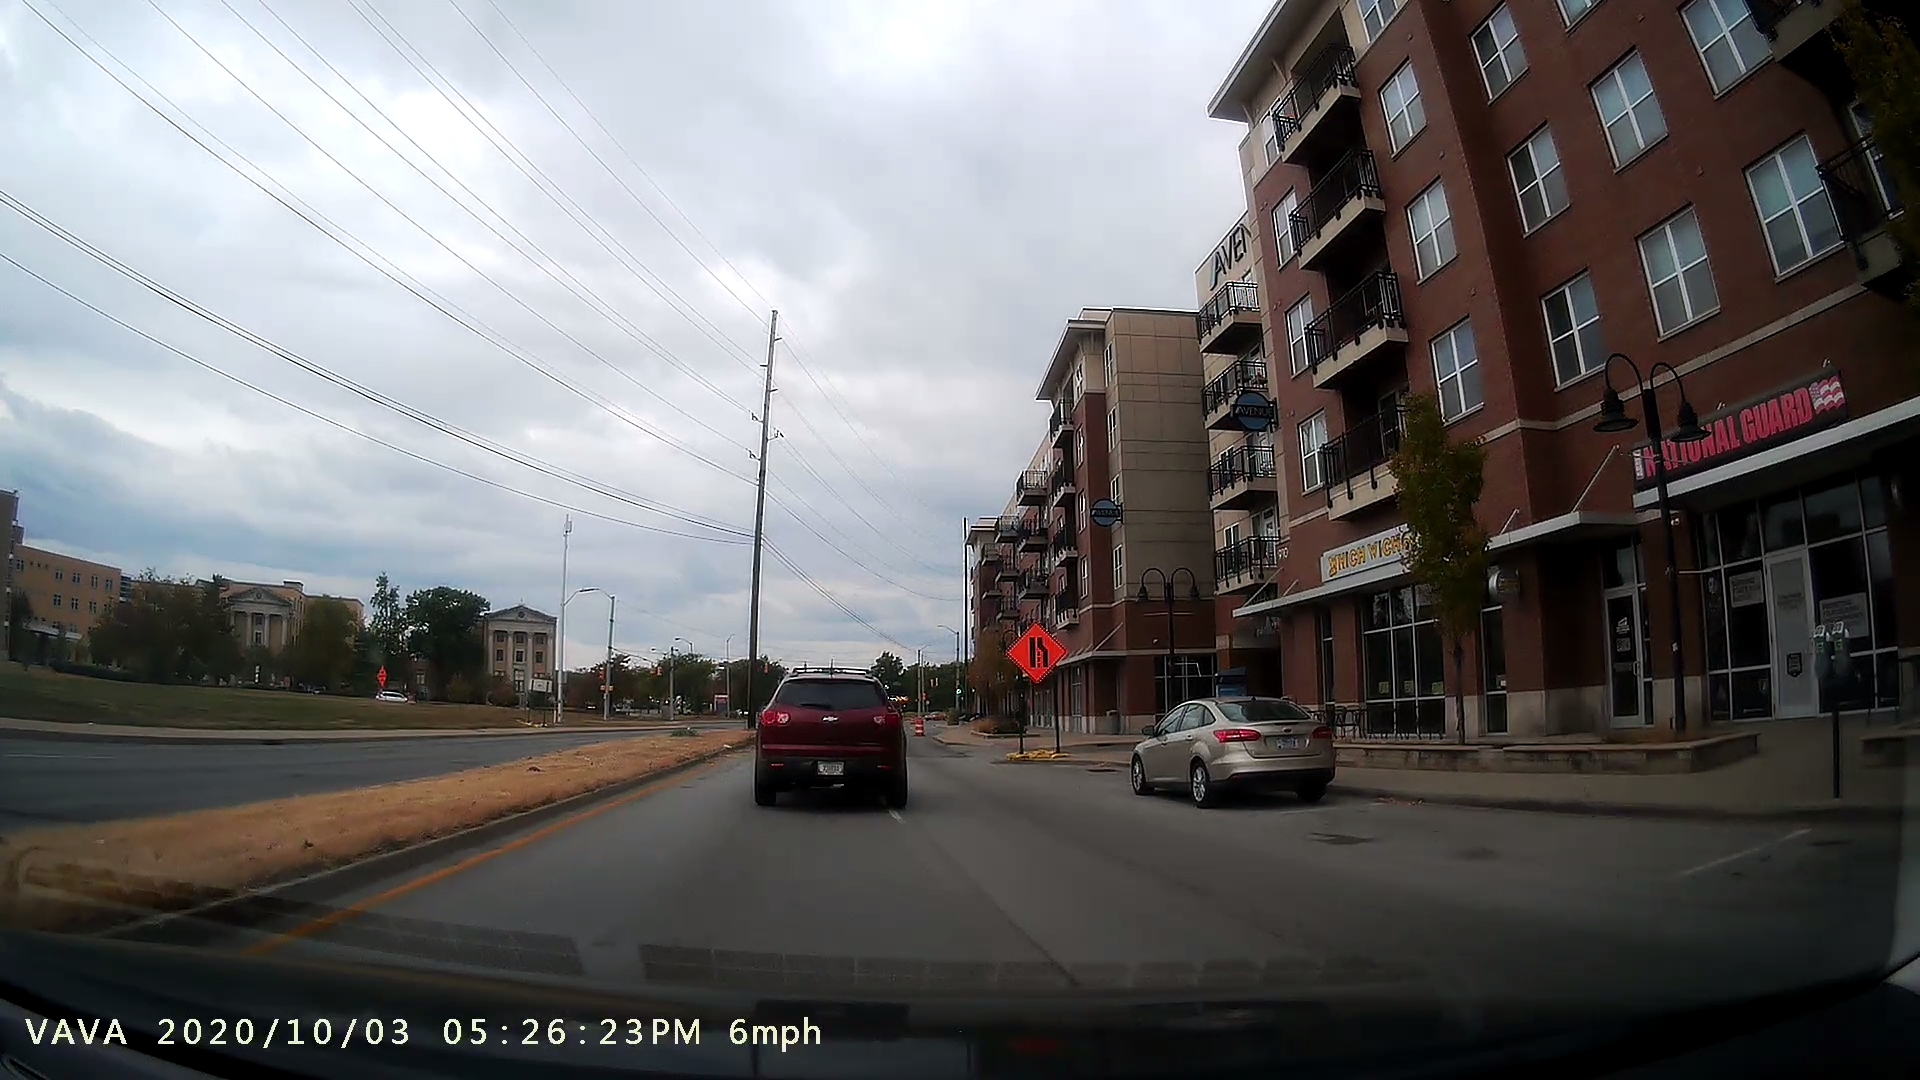ttcs_right_lane_reduction: (1002, 601, 1071, 758)
